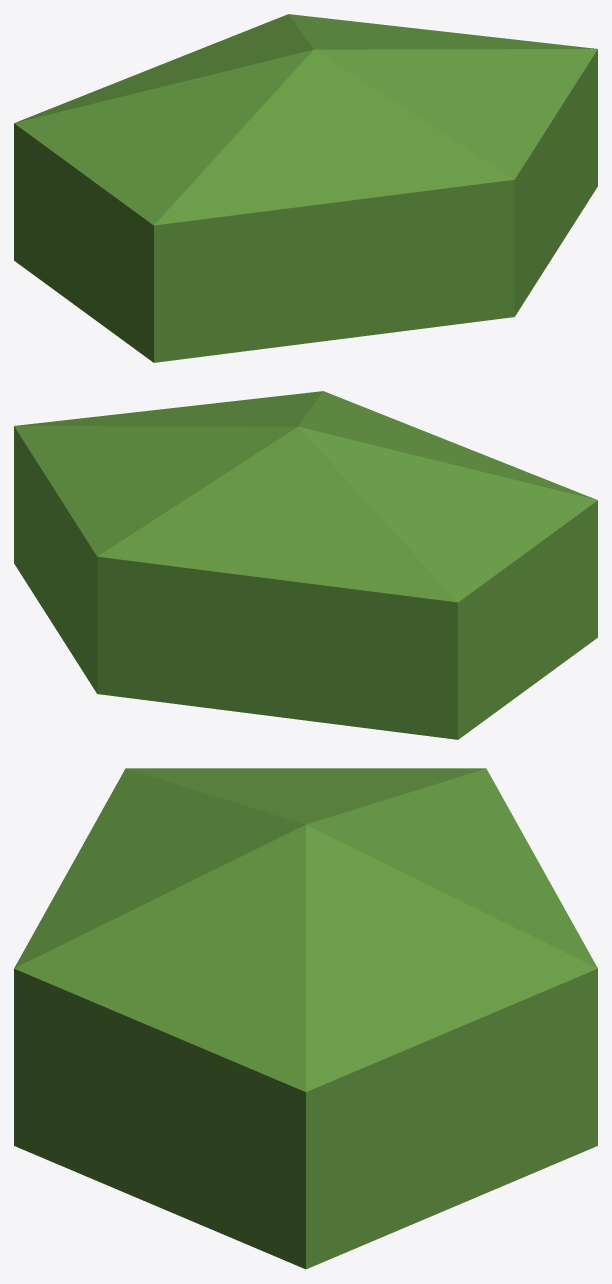
The model's file is bush_scrub_lod2.obj.
The picture shows the model from 3 angles, top to bottom: view 1: azimuth 30°, elevation 25°; view 2: azimuth 150°, elevation 25°; view 3: azimuth 270°, elevation 25°; orthographic projection. The views are drawn at different scales.
Parts seen in each view (by area): view 1: bush_scrub_lod2; view 2: bush_scrub_lod2; view 3: bush_scrub_lod2.
Boxes of the visible parts, box(x1,y1,x2,y2) form: bush_scrub_lod2: box(14, 14, 597, 362); bush_scrub_lod2: box(14, 391, 597, 739); bush_scrub_lod2: box(14, 768, 597, 1269).
Bounding box in the file's own units: 1.25 × 0.64 × 0.9554.
1 material, 1 textured.
